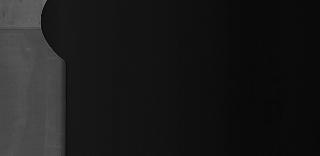welding line: (1, 25, 57, 39)
